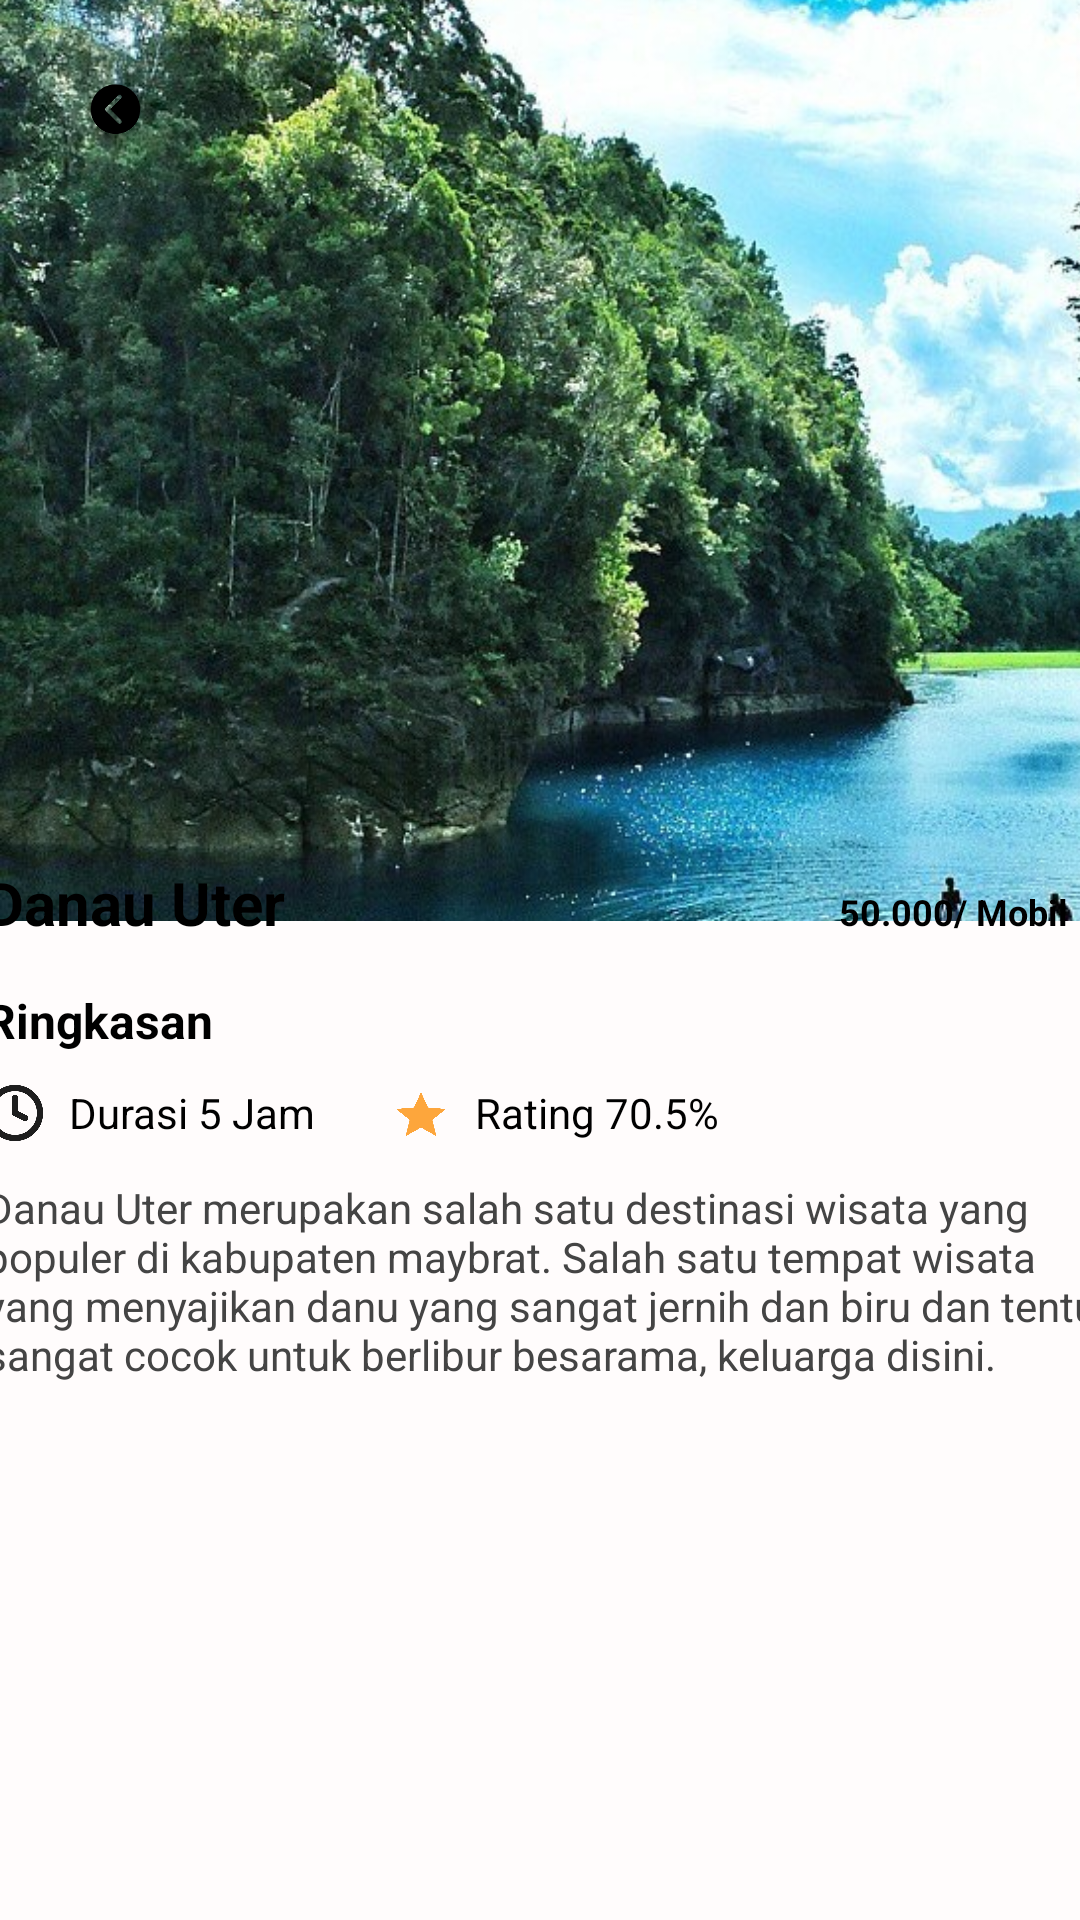

Icon click points for this 1080px×1920px phone screenshot, format [x,y]:
stars: [421,1114]
